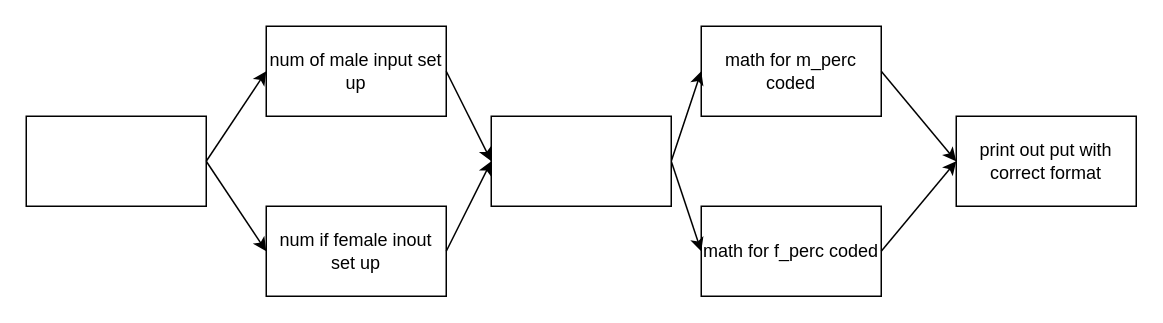
The diagram is 1163 pixels wide and 323 high, and some of its shapes have lost their labels. The centre of each missing label's shape, as x and y in pixels:
"Assign accepted" goes at (115,160).
"calculated and coded the total people in the class" goes at (580,160).
